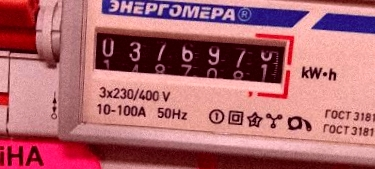0: (100, 34, 115, 57)
1: (257, 61, 270, 81)
3: (127, 39, 143, 61)
6: (179, 38, 195, 62)
7: (152, 37, 168, 61), (232, 44, 248, 68)
9: (204, 41, 221, 65)
screen: (82, 16, 297, 102)
